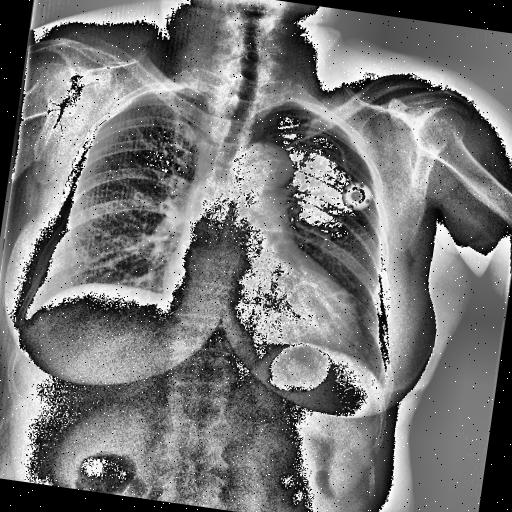0- Aortic enlargement: (200, 132, 298, 189)
3- Cardiomegaly: (134, 224, 384, 380), (146, 255, 372, 351)
9- Other lesion: (336, 170, 378, 218)
